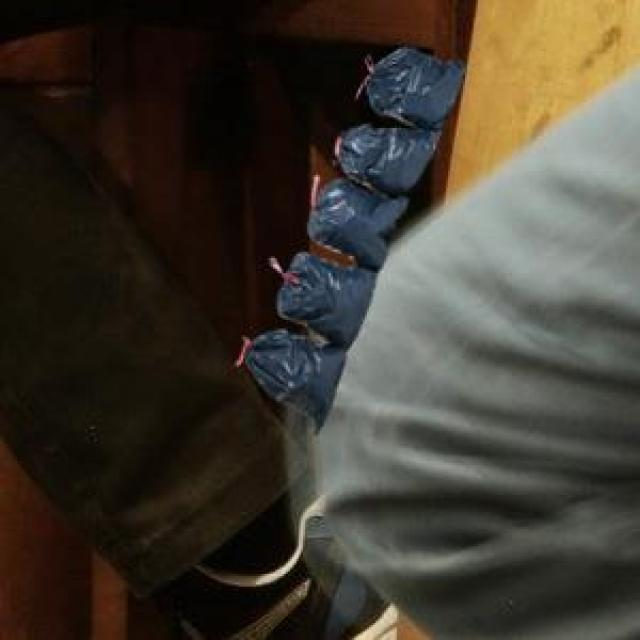waste: (244, 48, 459, 422)
